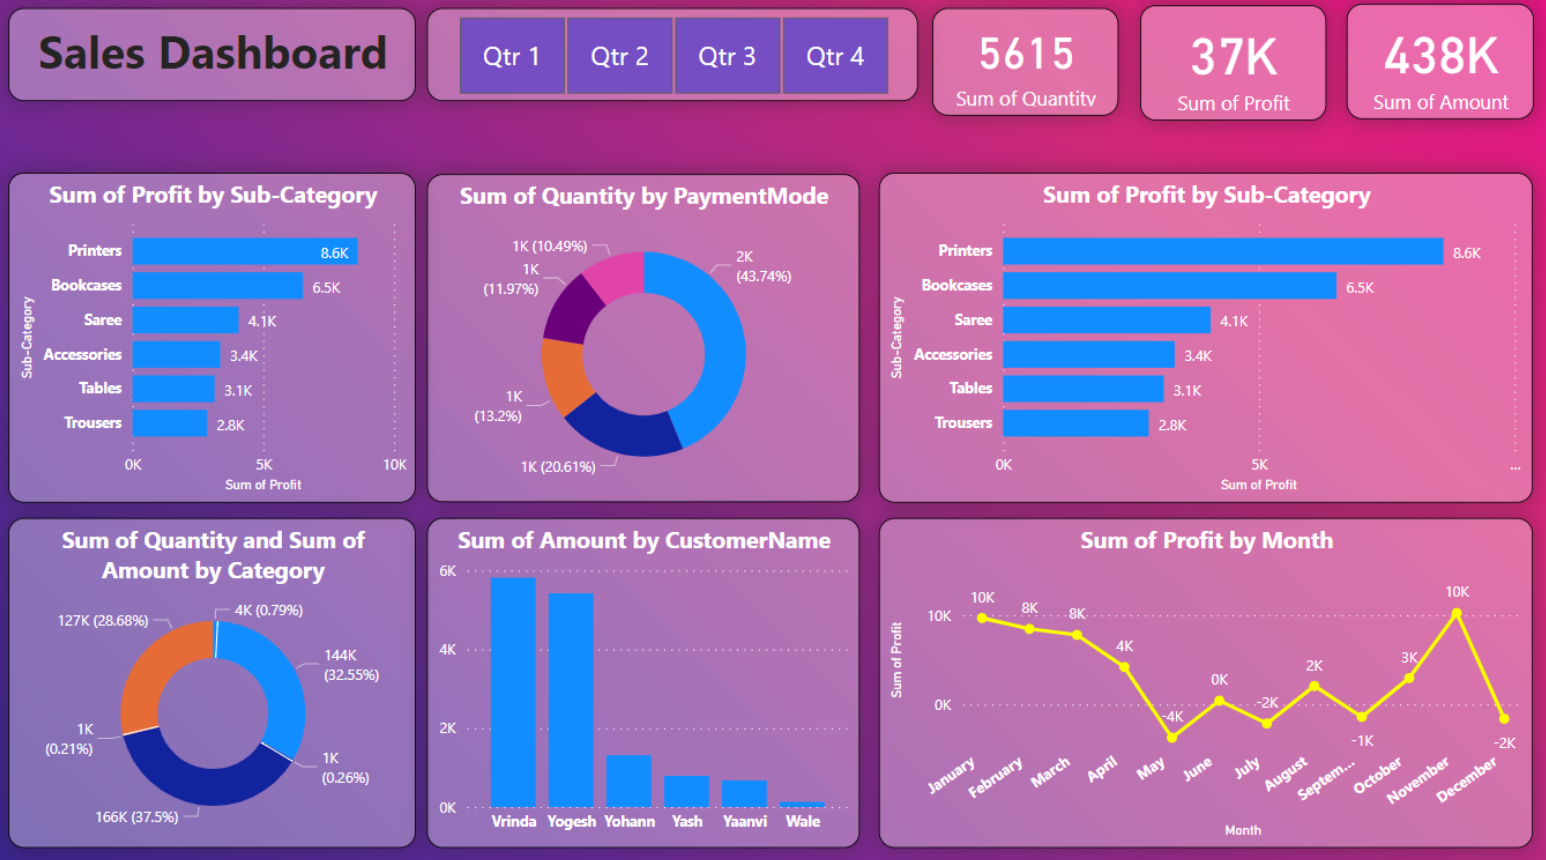

What the dashboard file says about the page in this screenshot:
{"tool":"powerbi","page":{"name":"Page 1","canvas":[1280,720],"ordinal":0},"visuals":[{"type":"textbox","box":[15.7,54.3,322.9,67.1],"z":0},{"type":"card","fields":{"Values":["Details.Quantity"]},"box":[716.3,28.8,170.2,120],"z":1000},{"type":"card","fields":{"Values":["Details.Profit"]},"box":[900.2,28.8,170.2,120],"z":2000},{"type":"card","fields":{"Values":["Details.Amount"]},"box":[1086.8,28.8,170.2,120],"z":3000},{"type":"barChart","fields":{"Y":["Details.Profit"],"Category":["Details.Sub-Category"]},"box":[15.7,185.7,377.1,248.6],"z":4000},{"type":"donutChart","fields":{"Y":["Details.Quantity","Details.Amount"],"Category":["Details.Category"]},"box":[15.7,448.6,377.1,248.6],"z":5000},{"type":"donutChart","fields":{"Y":["Details.Quantity"],"Category":["Details.PaymentMode"]},"box":[403,186,377,249],"z":6000},{"type":"columnChart","fields":{"Category":["Orders.CustomerName"],"Y":["Details.Amount"]},"box":[403,449,377,249],"z":7000},{"type":"barChart","fields":{"Y":["Details.Profit"],"Category":["Details.Sub-Category"]},"box":[794.3,185.7,462.9,248.6],"z":8000},{"type":"lineChart","fields":{"Y":["Details.Profit"],"Category":["Orders.Order Date.Variation.Date Hierarchy.Month"]},"box":[794,449,463,249],"z":9000},{"type":"slicer","fields":{"Values":["Orders.Order Date.Variation.Date Hierarchy.Quarter"]},"box":[354,42.5,351.3,89.2],"z":10000}]}

Visuals, with their boxes in screenshot pixels (x1, y1, x2, y2), scaled from the page's 1280x720 canvas onto the 1546x860 screenshot:
textbox: crop(19, 65, 409, 145)
card - Details.Quantity: crop(865, 34, 1071, 178)
card - Details.Profit: crop(1087, 34, 1293, 178)
card - Details.Amount: crop(1313, 34, 1518, 178)
barChart - Details.Profit x Details.Sub-Category: crop(19, 222, 474, 519)
donutChart - Details.Quantity x Details.Amount: crop(19, 536, 474, 833)
donutChart - Details.Quantity x Details.PaymentMode: crop(487, 222, 942, 520)
columnChart - Orders.CustomerName x Details.Amount: crop(487, 536, 942, 834)
barChart - Details.Profit x Details.Sub-Category: crop(959, 222, 1518, 519)
lineChart - Details.Profit x Orders.Order Date.Variation.Date Hierarchy.Month: crop(959, 536, 1518, 834)
slicer - Orders.Order Date.Variation.Date Hierarchy.Quarter: crop(428, 51, 852, 157)
